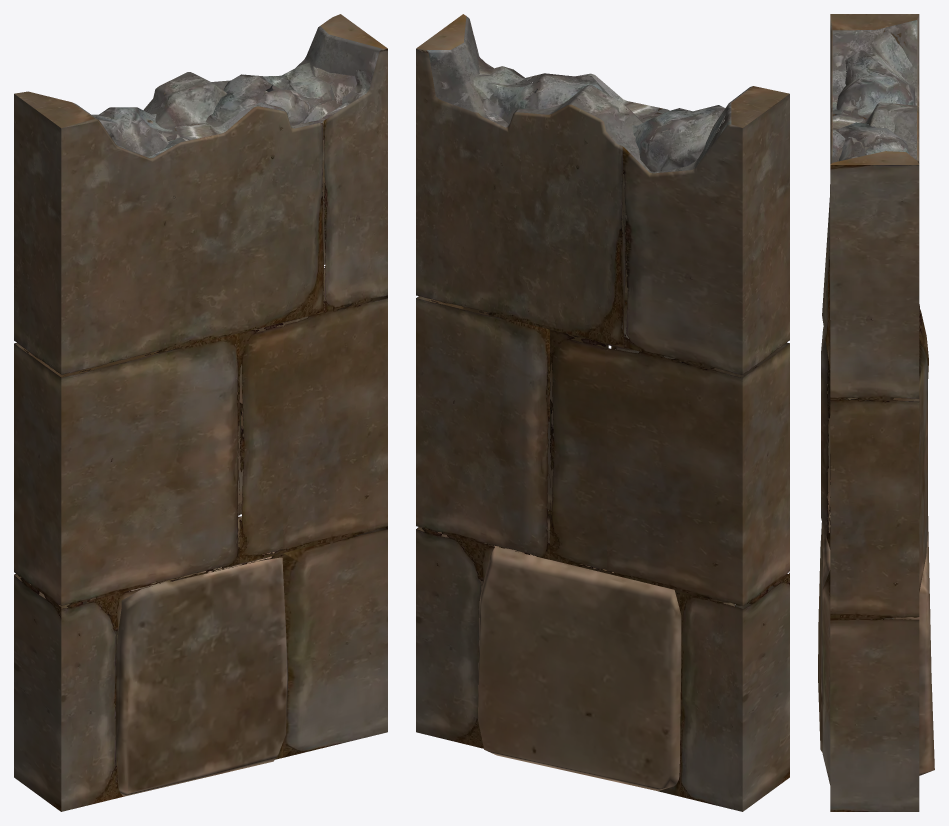
3 views of the same model, side by side, from view 1: azimuth 30°, elevation 25°; view 2: azimuth 150°, elevation 25°; view 3: azimuth 270°, elevation 25° (orthographic). The views are drawn at different scales.
Parts seen in each view (by area): view 1: SM_Vault_4m_Wall_Dmg_01_LOD0; view 2: SM_Vault_4m_Wall_Dmg_01_LOD0; view 3: SM_Vault_4m_Wall_Dmg_01_LOD0.
Part boxes in pixels (x1=…): SM_Vault_4m_Wall_Dmg_01_LOD0: x1=14, y1=14, x2=387, y2=811; SM_Vault_4m_Wall_Dmg_01_LOD0: x1=416, y1=14, x2=789, y2=811; SM_Vault_4m_Wall_Dmg_01_LOD0: x1=818, y1=14, x2=934, y2=811.
Size of the model in its own units: 2 by 4 by 0.6543.
3 materials, 3 textured.
